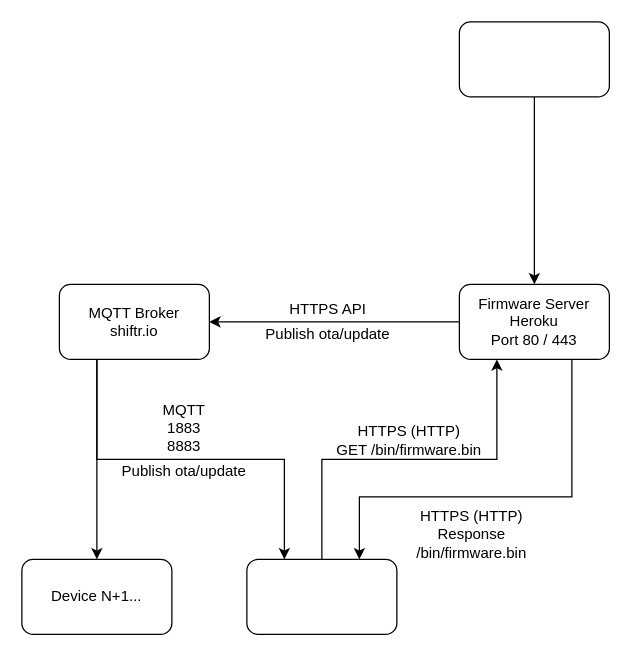
The diagram is 631 pixels wide and 656 high, and some of its shapes have lost their labels. The shapes that lost their labels are listed below. From the top down, each one's box as (x1, y1, x2, y2) in pixels, then its label:
(458, 21, 609, 97): Deploy new FW git push heroku main
(246, 558, 397, 634): Device N
